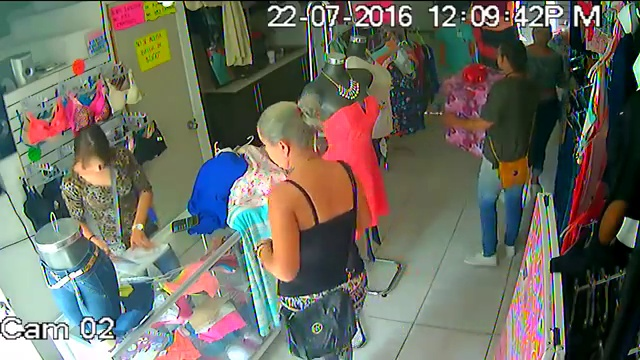face: (80, 152, 107, 175), (532, 27, 552, 44)
